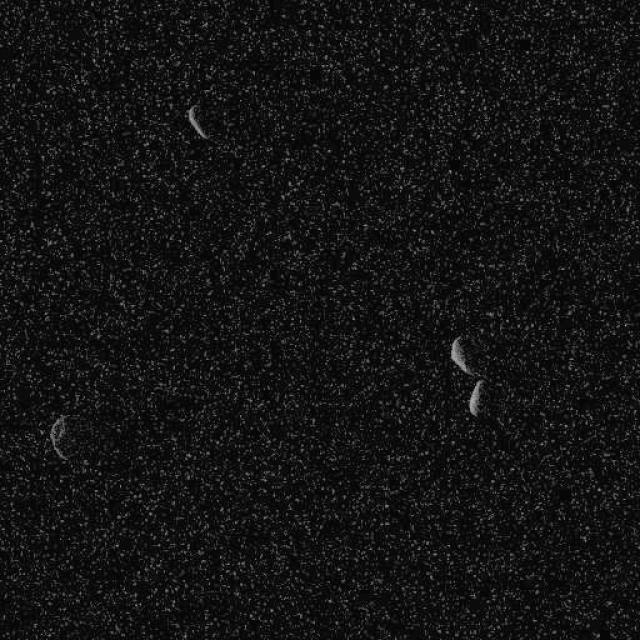D2: (448, 334, 484, 378), (49, 412, 70, 462), (185, 102, 209, 140), (468, 378, 487, 418)
